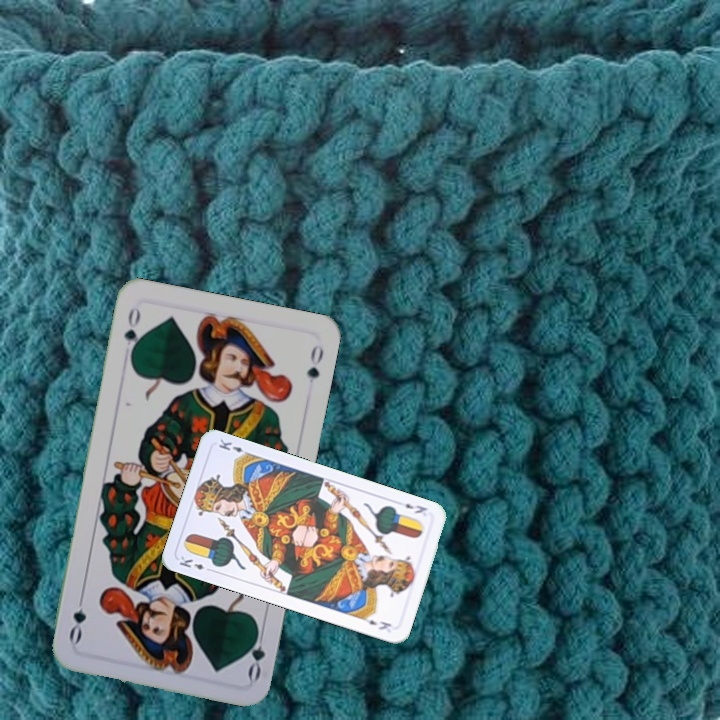EK: (175, 552, 215, 574), (401, 499, 430, 516)
GO: (242, 622, 268, 683), (119, 302, 144, 362)
